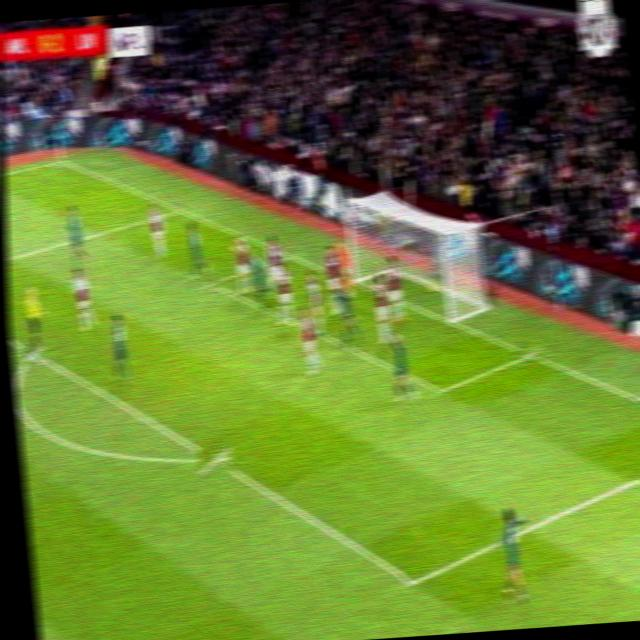bigarea_bottom_inner: (400, 562, 431, 603)
bigarea_top_outter: (170, 202, 189, 220)
bottom_arc_area_intersection: (195, 438, 235, 482)
corner: (53, 154, 69, 168)
smallarea_bottom_inner: (431, 376, 452, 404)
smallarea_bottom_outter: (515, 339, 544, 370)
smallarea_top_inner: (200, 270, 219, 295)
smallarea_top_outter: (281, 247, 302, 267)
top_arc_area_intersection: (22, 342, 46, 370)
